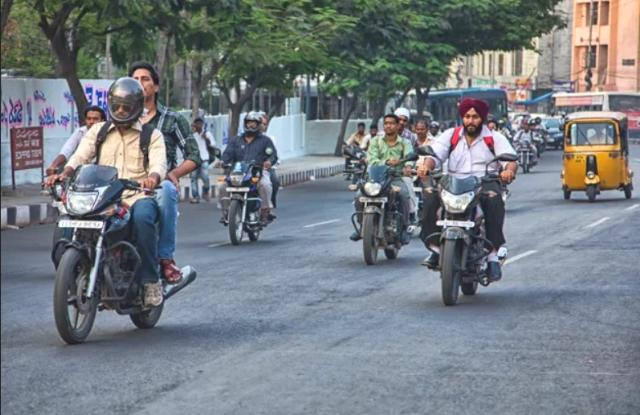licensePlate: (55, 219, 103, 231), (437, 218, 479, 228), (357, 195, 387, 203), (225, 184, 247, 194)
motorcycle: (28, 61, 183, 342), (415, 98, 516, 308), (351, 103, 410, 268), (212, 107, 271, 248)
withHelmet: (101, 78, 145, 125), (237, 110, 262, 132)
withoutHelmet: (455, 101, 485, 133), (134, 61, 158, 101), (392, 108, 410, 135), (379, 115, 396, 138)
